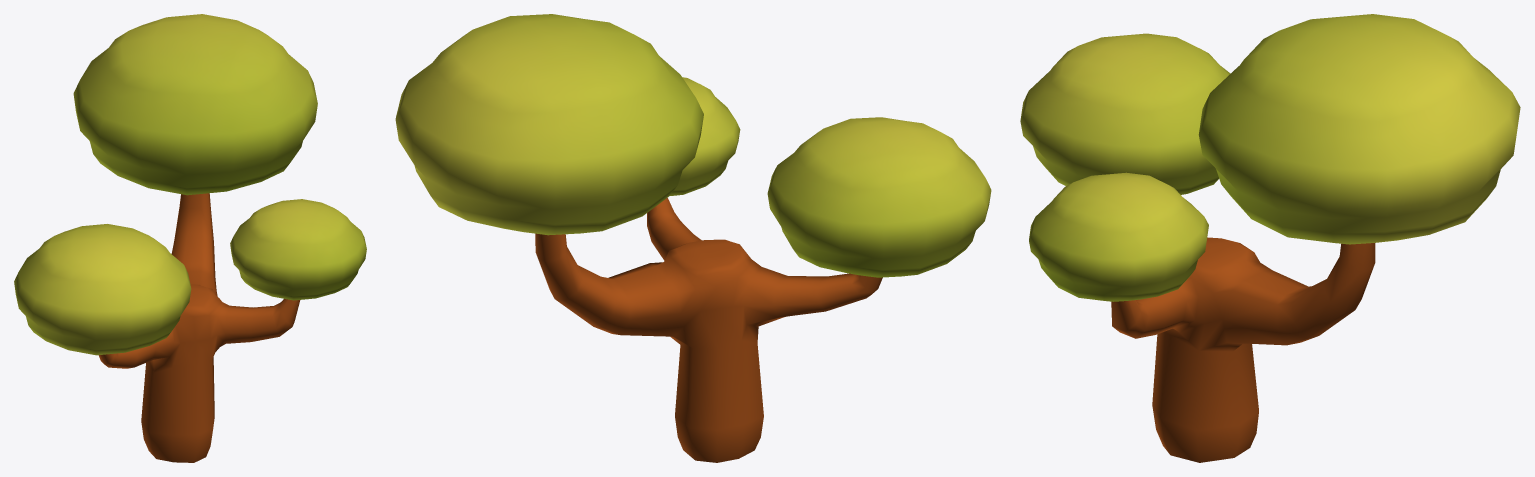
File: SM_Tree_33.fbx
3 views of the same model, side by side, from view 1: azimuth 30°, elevation 25°; view 2: azimuth 150°, elevation 25°; view 3: azimuth 270°, elevation 25° (orthographic). The views are drawn at different scales.
Visible parts, largest first — view 1: SM_Tree_33; view 2: SM_Tree_33; view 3: SM_Tree_33.
Boxes of the visible parts, x1,y1,x2,y2 form: SM_Tree_33: (14, 14, 366, 462); SM_Tree_33: (395, 14, 991, 462); SM_Tree_33: (1020, 14, 1520, 462).
Size of the model in its own units: 652 by 602 by 599.
